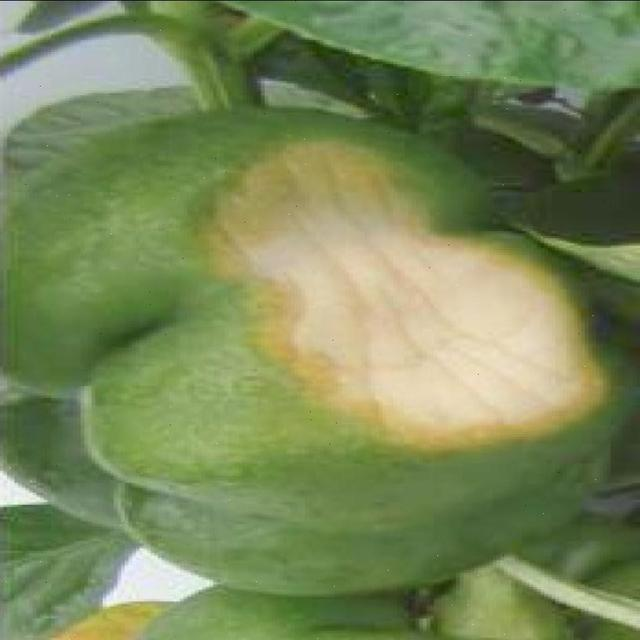Sunscald Fruit: (130, 86, 412, 315)
